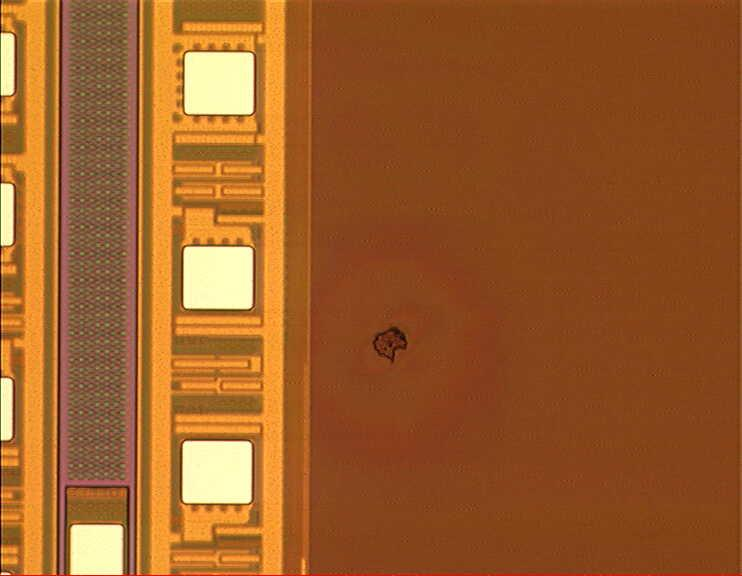PIQ PARTICLE: (372, 326, 412, 366)
